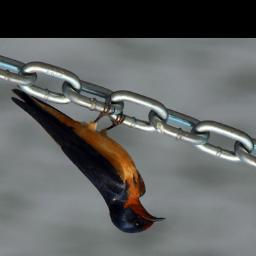Swallow: (10, 85, 167, 234)
